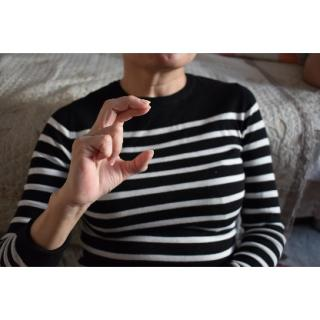DHELL: (59, 91, 163, 209)
